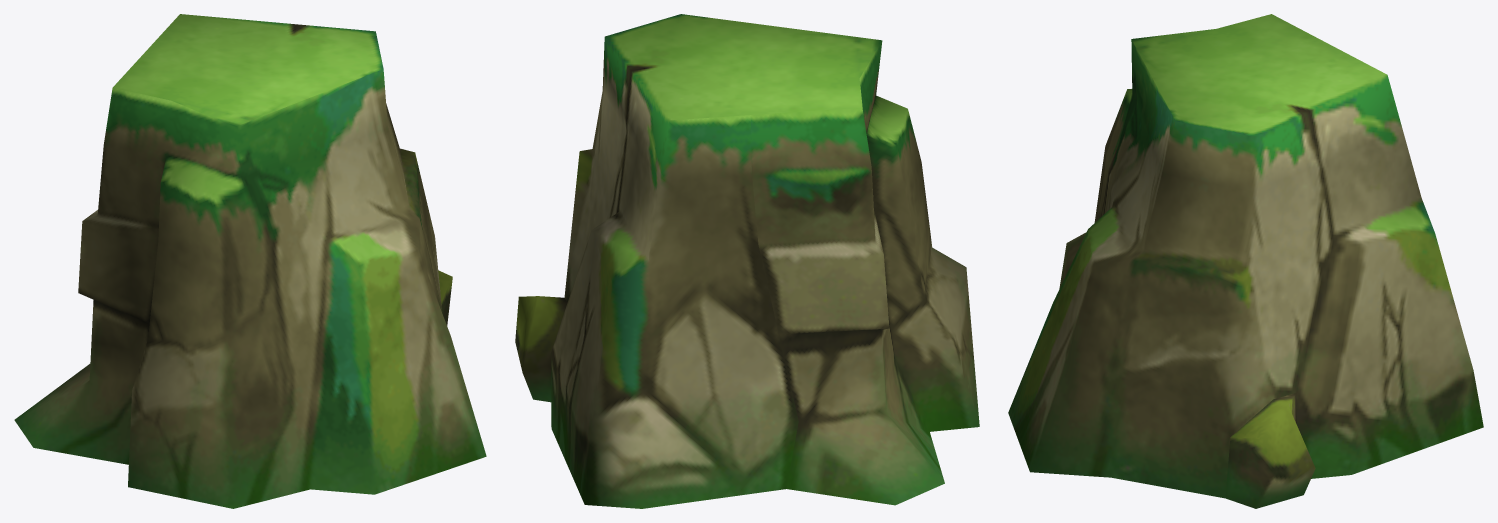
Rendered from cj_shan3.fbx.
3 views of the same model, side by side, from view 1: azimuth 30°, elevation 25°; view 2: azimuth 150°, elevation 25°; view 3: azimuth 270°, elevation 25° (orthographic). The views are drawn at different scales.
Parts seen in each view (by area): view 1: cj_shan3; view 2: cj_shan3; view 3: cj_shan3.
Part boxes in pixels (x1=…): cj_shan3: x1=14, y1=14, x2=486, y2=508; cj_shan3: x1=515, y1=14, x2=979, y2=508; cj_shan3: x1=1008, y1=14, x2=1483, y2=508.
Bounding box in the file's own units: 2244 × 1766 × 2260.
